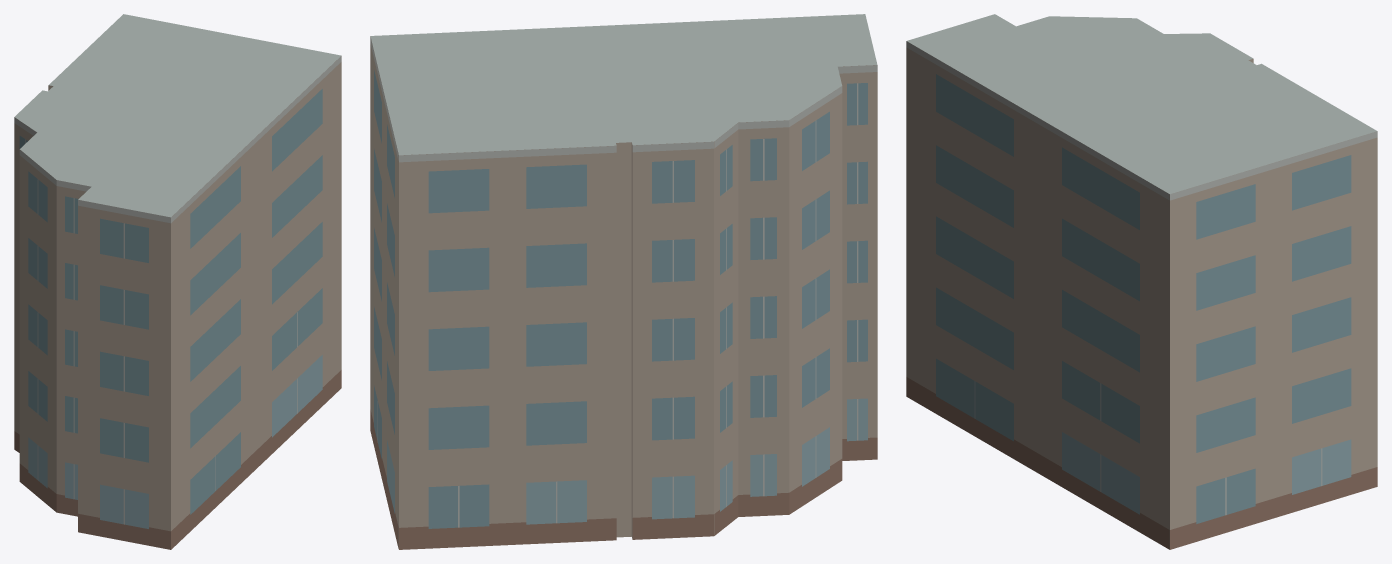
Rendered from survey-upis-32722195.glb.
The picture shows the model from 3 angles, left to right: view 1: azimuth 30°, elevation 25°; view 2: azimuth 150°, elevation 25°; view 3: azimuth 270°, elevation 25°; orthographic projection. The views are drawn at different scales.
Parts seen in each view (by area): view 1: survey-upis-32722195.tmp; view 2: survey-upis-32722195.tmp; view 3: survey-upis-32722195.tmp.
Boxes of the visible parts, box(x1,y1,x2,y2) form: survey-upis-32722195.tmp: box(14, 14, 341, 549); survey-upis-32722195.tmp: box(370, 14, 877, 549); survey-upis-32722195.tmp: box(906, 14, 1377, 549).
Bounding box in the file's own units: 14.91 × 13.7 × 16.46.
